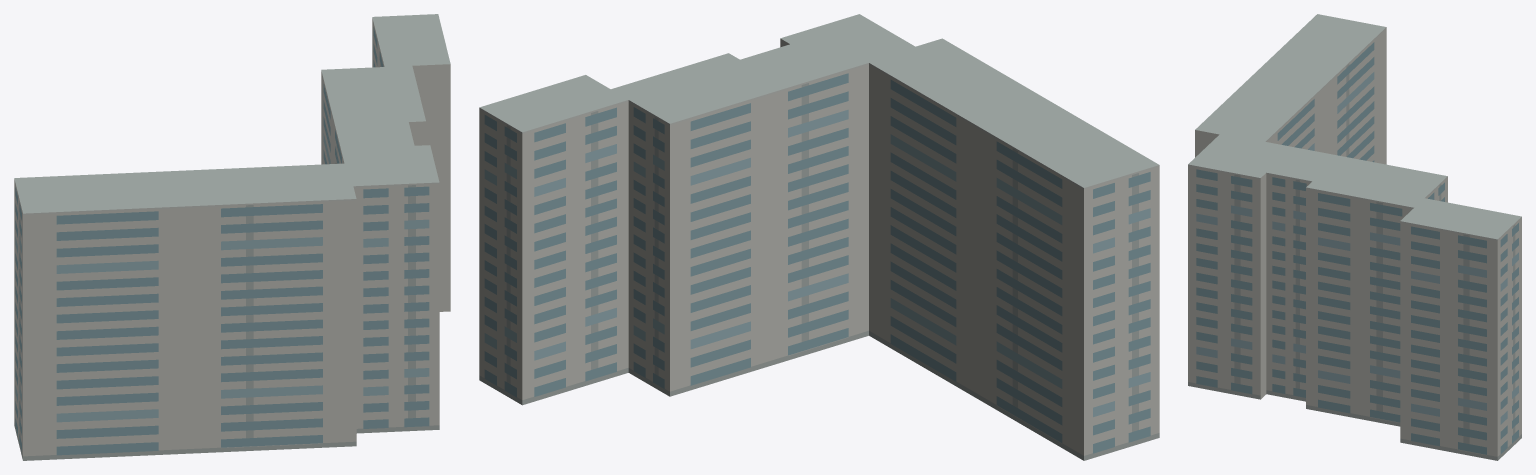
Rendered from residential-791aae54-bcd5-4c81-ae5c-b8133d1cbf2d.glb.
The picture shows the model from 3 angles, left to right: view 1: azimuth 30°, elevation 25°; view 2: azimuth 150°, elevation 25°; view 3: azimuth 270°, elevation 25°; orthographic projection. The views are drawn at different scales.
Visible parts, largest first — view 1: residential-791aae54-bcd5-4c81-ae5c-b8133d1cbf2d.tmp; view 2: residential-791aae54-bcd5-4c81-ae5c-b8133d1cbf2d.tmp; view 3: residential-791aae54-bcd5-4c81-ae5c-b8133d1cbf2d.tmp.
Boxes of the visible parts, x1,y1,x2,y2 form: residential-791aae54-bcd5-4c81-ae5c-b8133d1cbf2d.tmp: [14, 14, 450, 460]; residential-791aae54-bcd5-4c81-ae5c-b8133d1cbf2d.tmp: [479, 14, 1159, 460]; residential-791aae54-bcd5-4c81-ae5c-b8133d1cbf2d.tmp: [1188, 14, 1521, 460].
Bounding box in the file's own units: 89.51 × 41 × 56.03.
